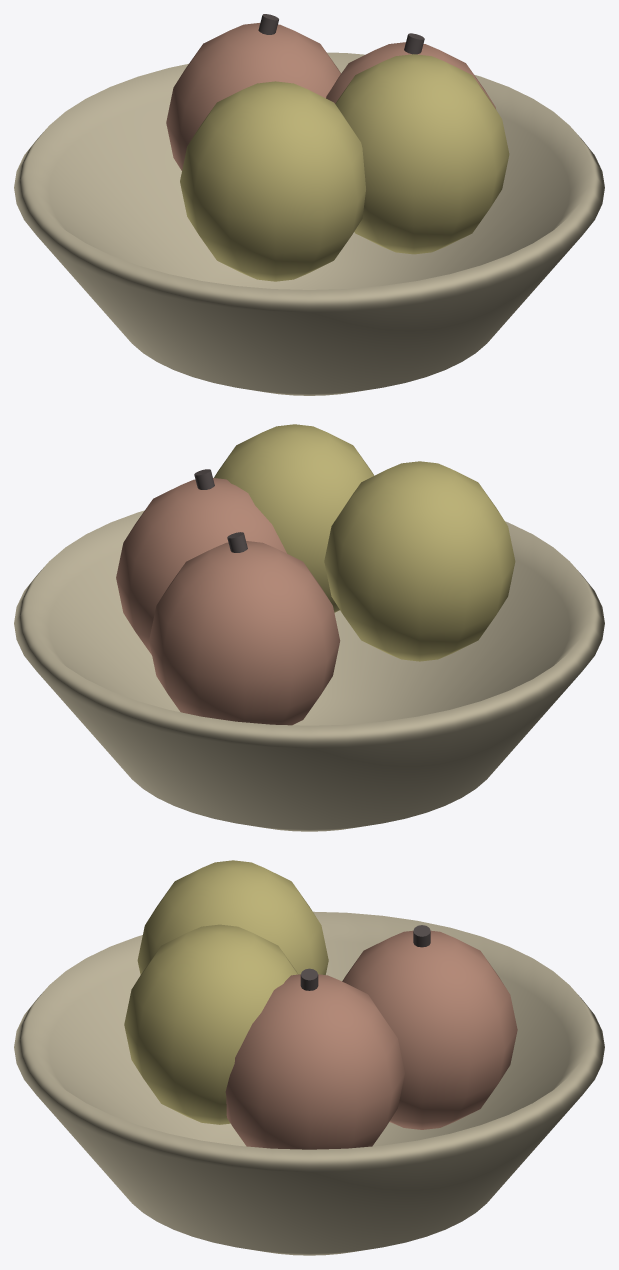
File: fruitbowl.glb
3 views of the same model, one above another, from view 1: azimuth 30°, elevation 25°; view 2: azimuth 150°, elevation 25°; view 3: azimuth 270°, elevation 25° (orthographic).
Parts seen in each view (by area): view 1: fruit-bowl, fruit-1, fruit-3, fruit-2, fruit-0; view 2: fruit-bowl, fruit-1, fruit-2, fruit-3, fruit-0; view 3: fruit-bowl, fruit-0, fruit-2, fruit-3, fruit-1.
Part boxes in pixels (left/top/right/bottom): fruit-bowl: left=14, top=52, right=604, bottom=395; fruit-1: left=180, top=81, right=365, bottom=281; fruit-3: left=335, top=54, right=509, bottom=254; fruit-2: left=166, top=23, right=340, bottom=170; fruit-0: left=326, top=42, right=495, bottom=108; fruit-bowl: left=14, top=510, right=604, bottom=831; fruit-1: left=324, top=461, right=515, bottom=661; fruit-2: left=149, top=541, right=340, bottom=725; fruit-3: left=214, top=424, right=374, bottom=612; fruit-0: left=116, top=478, right=286, bottom=654; fruit-bowl: left=14, top=911, right=604, bottom=1255; fruit-0: left=225, top=974, right=404, bottom=1149; fruit-2: left=342, top=930, right=517, bottom=1129; fruit-3: left=124, top=924, right=298, bottom=1124; fruit-1: left=137, top=860, right=328, bottom=974.
Bounding box in the file's own units: 0.34 × 0.1915 × 0.34.
